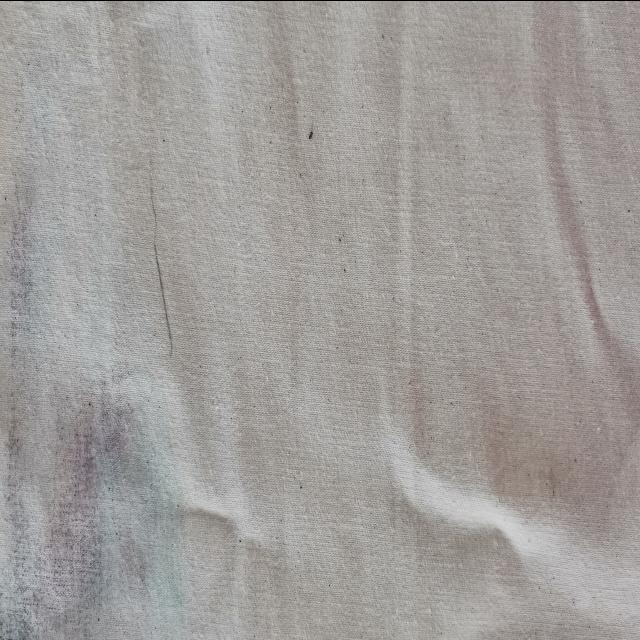taaaches: (0, 0, 139, 637), (150, 226, 186, 374)
